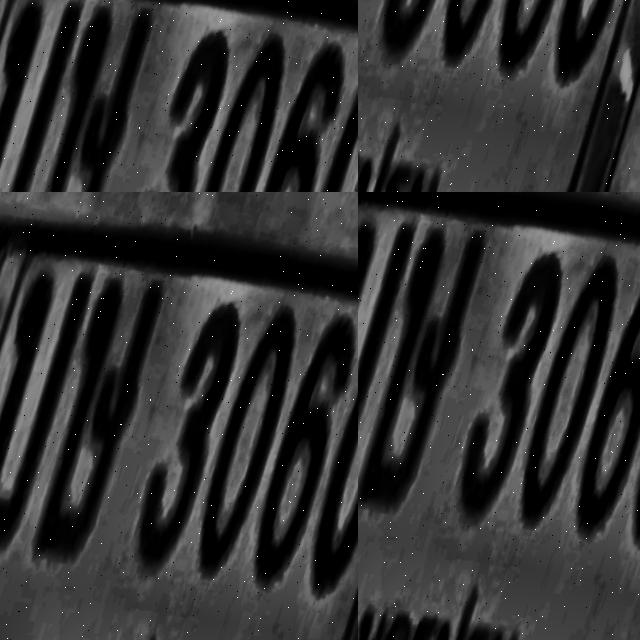license-plate: (358, 192, 640, 640)
